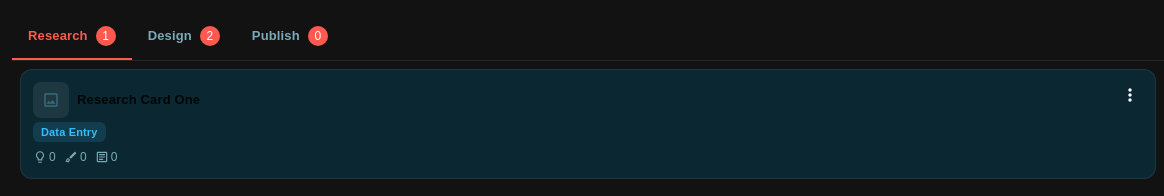
Test: MobileKanbanTabs › opens a 3-dot menu with a "Move to column" entry on each card
The image size is (1164, 196).
Click the button named "actions for research card one" at coordinates (1130, 95), box [1108,73,1152,117]
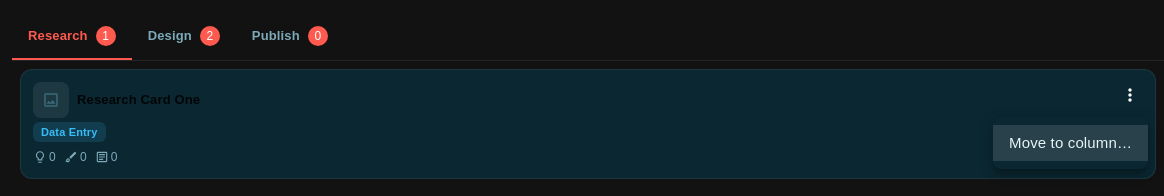
Expected: the menu item "Move to column…" is shown, [993,125,1148,161]
